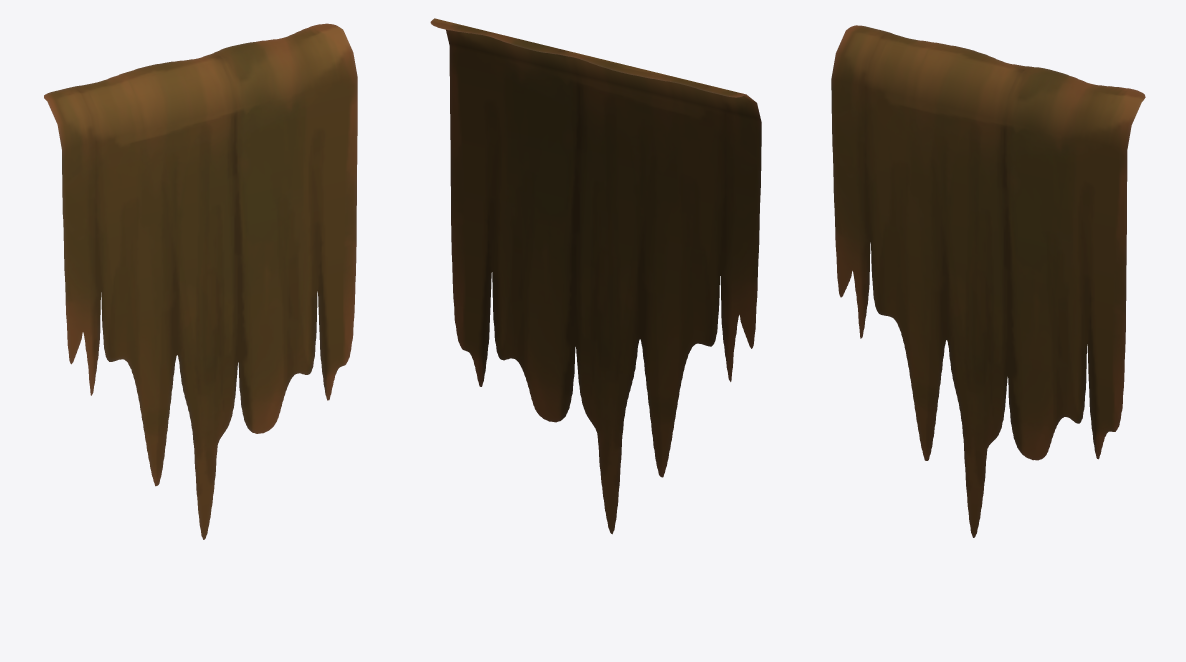
The model's file is Veg_Moss_A.fbx.
3 views of the same model, side by side, from view 1: azimuth 30°, elevation 25°; view 2: azimuth 150°, elevation 25°; view 3: azimuth 330°, elevation 25° (orthographic). The views are drawn at different scales.
Parts seen in each view (by area): view 1: Veg_Moss_A; view 2: Veg_Moss_A; view 3: Veg_Moss_A.
Boxes of the visible parts, left/top/right/bottom form: Veg_Moss_A: left=44, top=23, right=357, bottom=539; Veg_Moss_A: left=430, top=18, right=761, bottom=534; Veg_Moss_A: left=831, top=25, right=1145, bottom=537.
Bounding box in the file's own units: 150 × 229 × 21.37.
